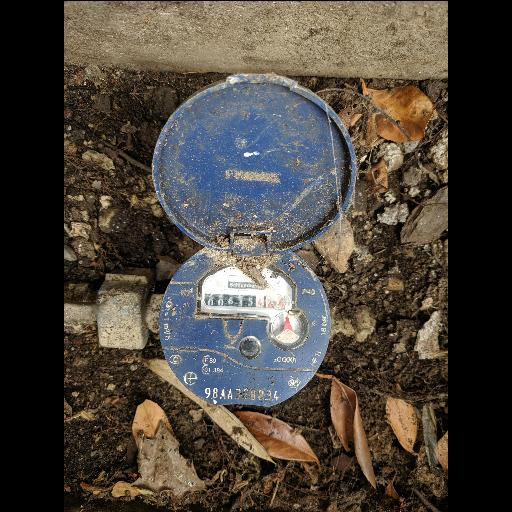0: (216, 294, 224, 307), (206, 293, 214, 305)
2: (266, 295, 275, 307)
3: (237, 295, 245, 308)
4: (256, 295, 265, 307)
5: (246, 295, 254, 308)
6: (227, 294, 235, 307)
border_water_meter_number: (203, 289, 291, 312)
